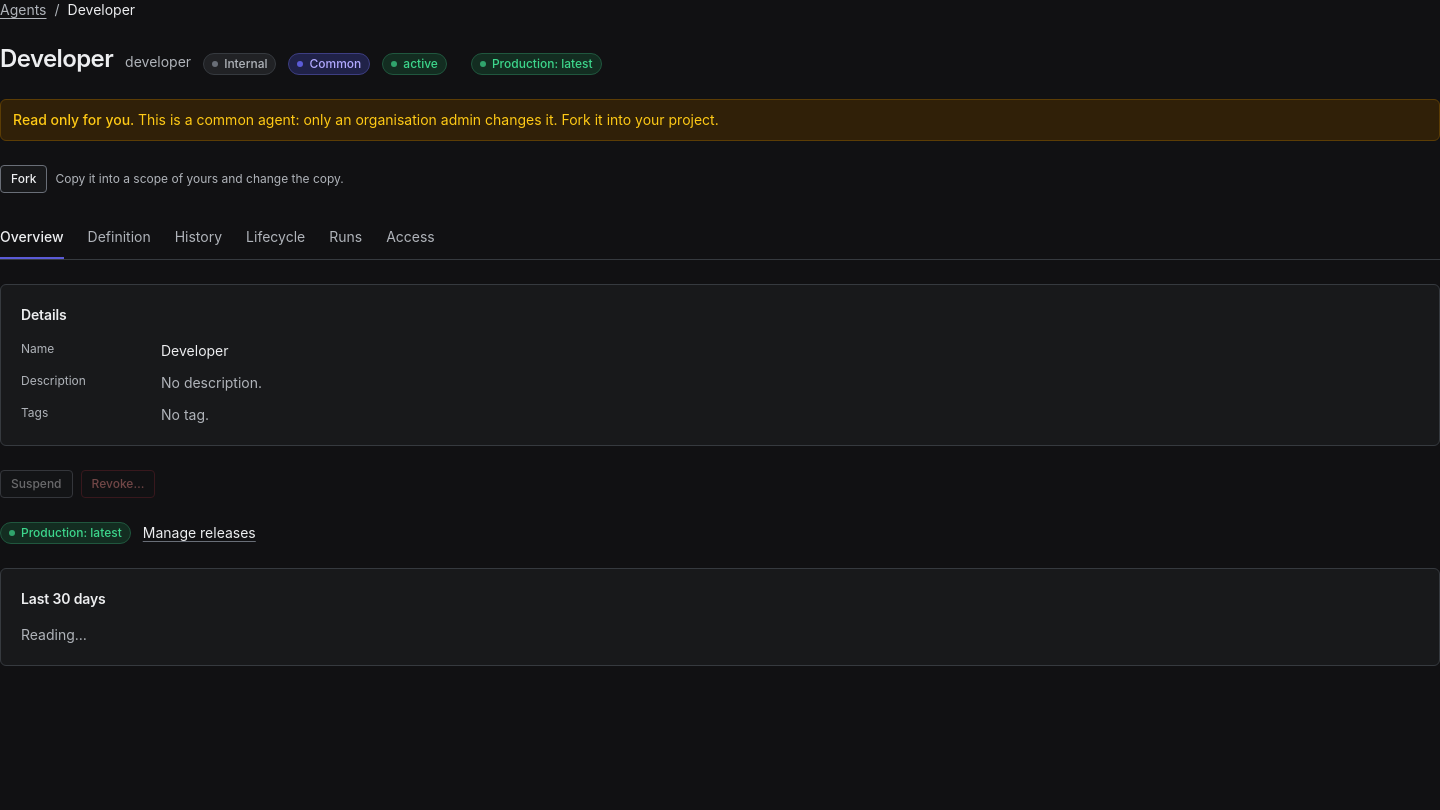
Test case: fork › a refusal of the API is shown in the dialog
Click the button "Fork". click: coordinates (24, 179)
box: [0, 165, 47, 193]
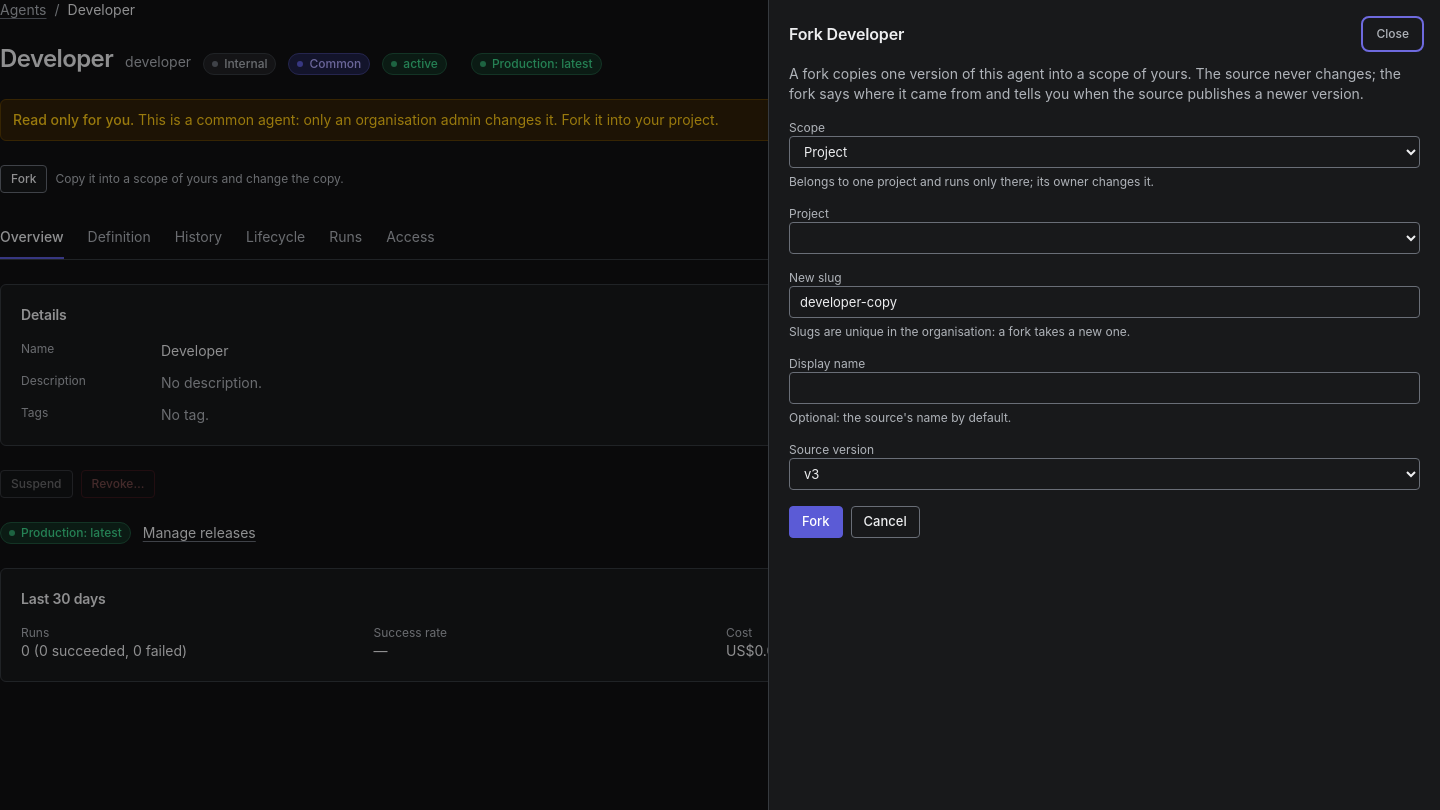
Select "Personal" in the dropdown labelled "Scope". click: coordinates (1104, 152)
box: [789, 136, 1420, 168]
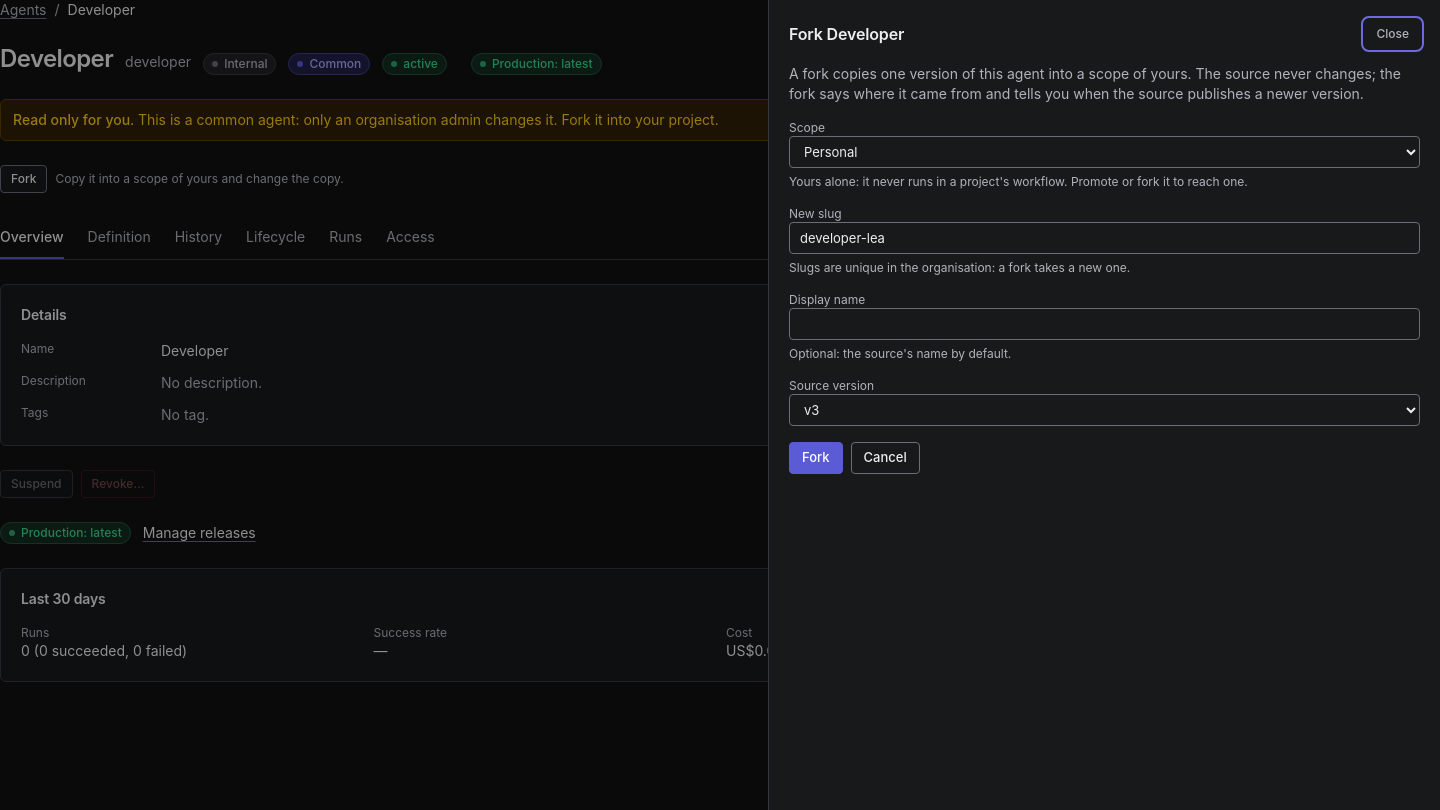
Submit the form "fork", box [789, 64, 1420, 474]
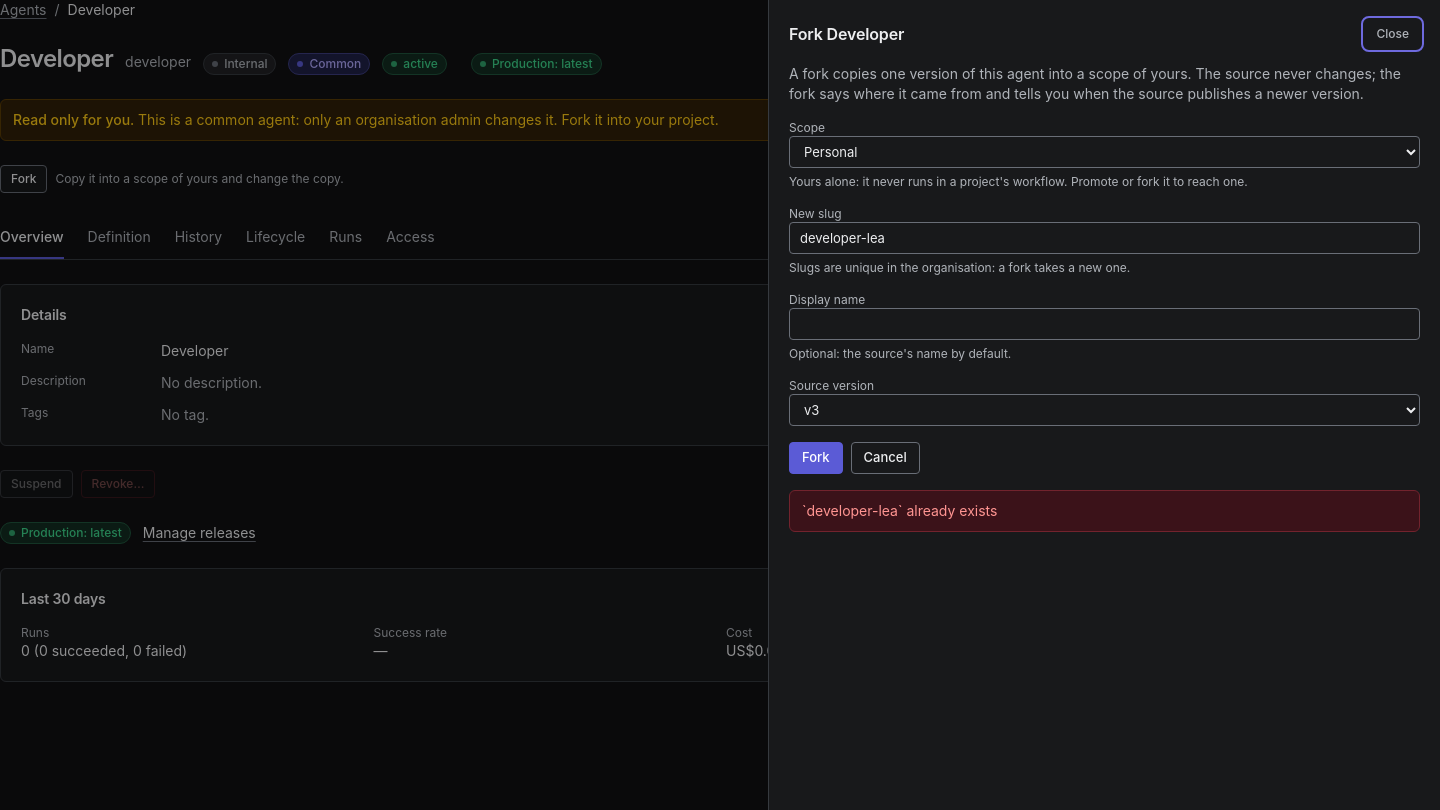
Check: the text "`developer-lea` already exists" is shown, box [802, 502, 997, 519]
